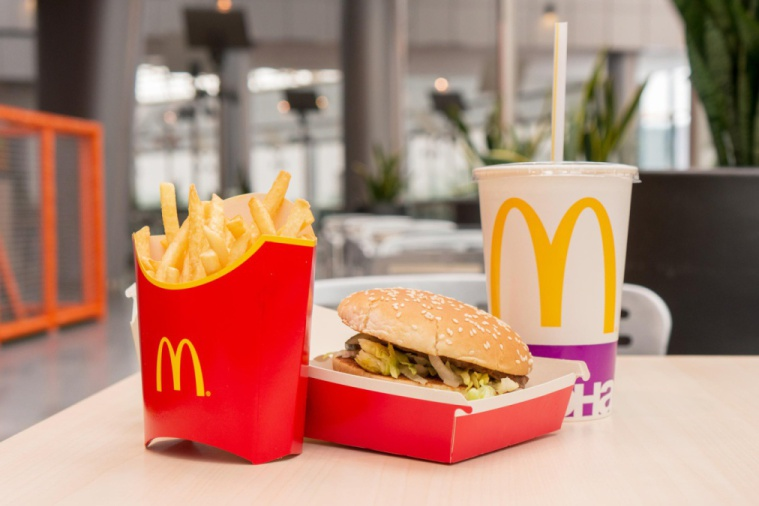mcdonalds: (487, 193, 621, 340), (143, 329, 220, 407)
